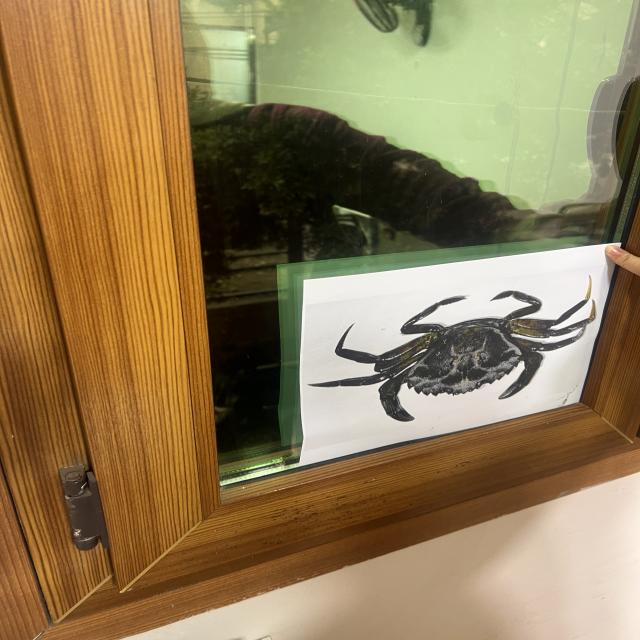European_Green_Crab: (289, 274, 623, 435)
